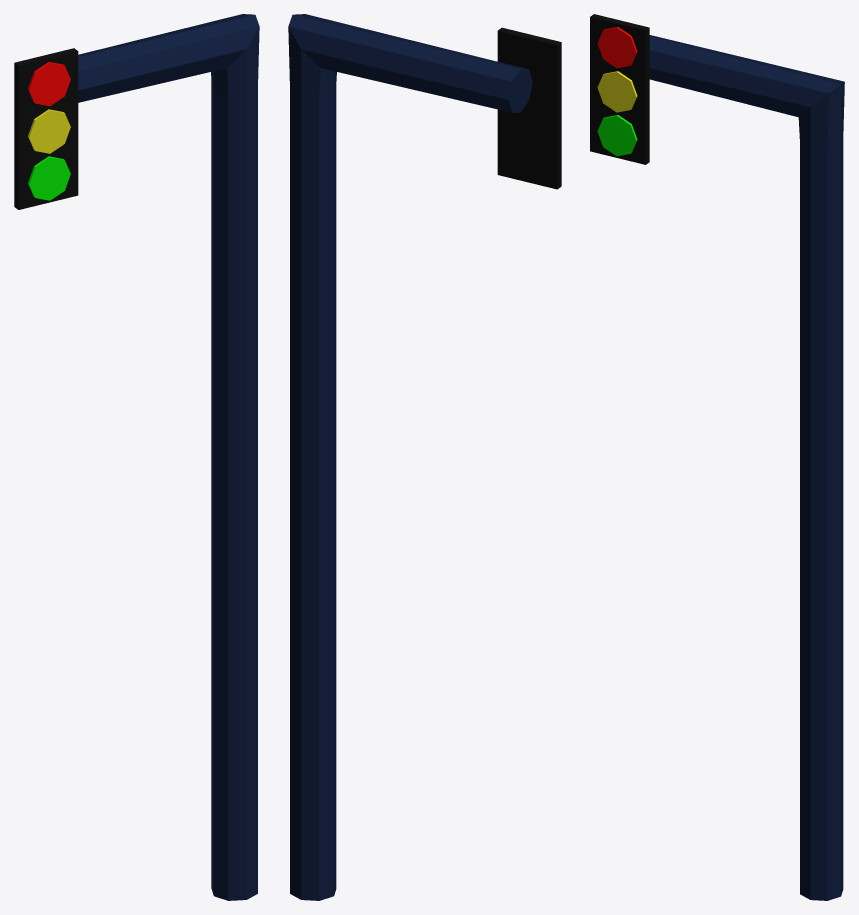
File: semaforo_carros.fbx
The picture shows the model from 3 angles, left to right: view 1: azimuth 30°, elevation 25°; view 2: azimuth 150°, elevation 25°; view 3: azimuth 330°, elevation 25°; orthographic projection. The views are drawn at different scales.
Visible parts, largest first — view 1: semaforo_carros; view 2: semaforo_carros; view 3: semaforo_carros.
Part boxes in pixels (box(x1,y1,x2,y2)): semaforo_carros: box(14, 14, 259, 900); semaforo_carros: box(288, 14, 561, 900); semaforo_carros: box(590, 14, 844, 900).
Bounding box in the file's own units: 74.85 × 253 × 15.16.
